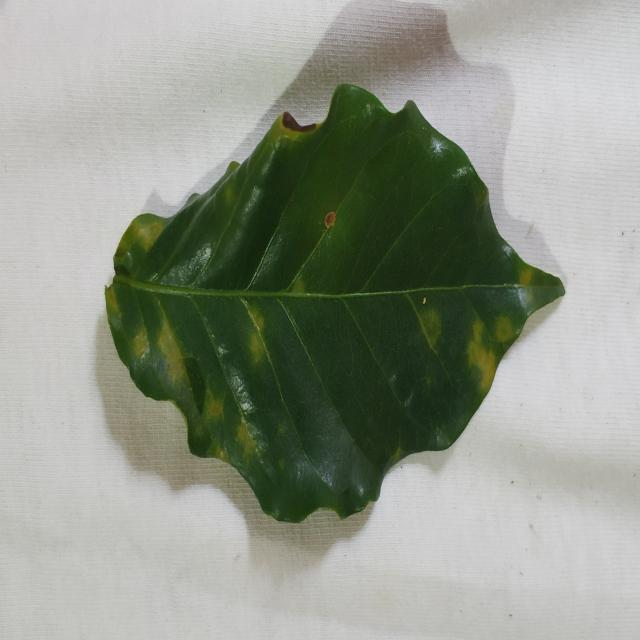Enfermedad-Roya: (103, 85, 566, 527)
